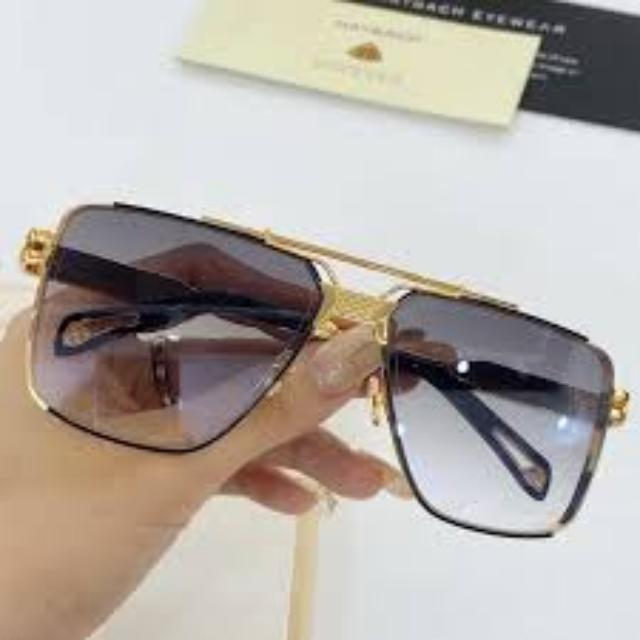glasses: (16, 196, 626, 544)
